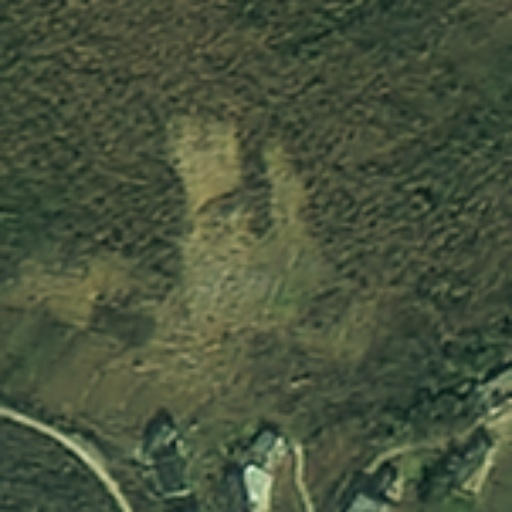landslide: (166, 112, 376, 352)
